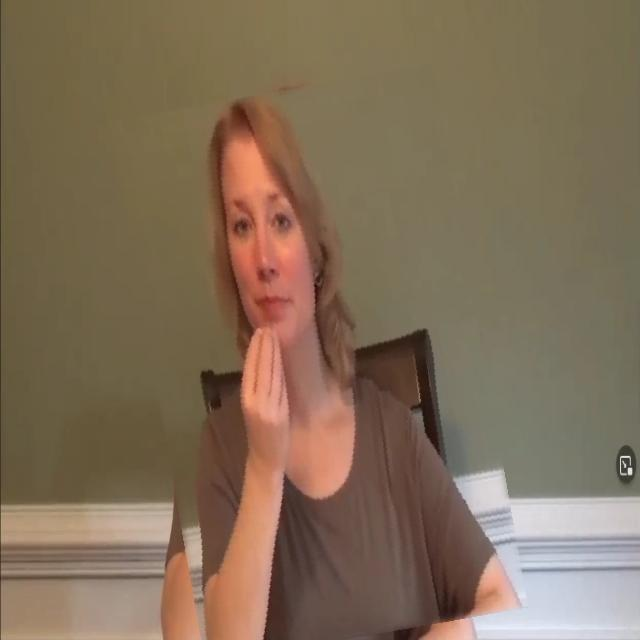Food: (132, 76, 505, 640)
